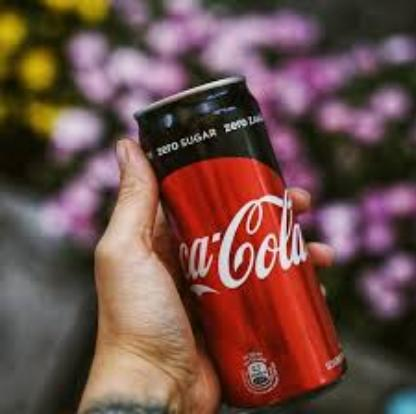Can: (132, 73, 350, 410)
